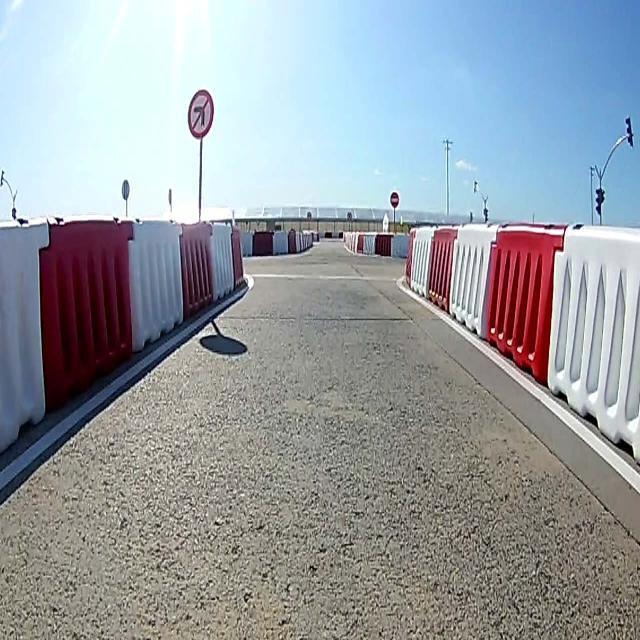girisyok: (389, 190, 398, 209)
soladonulmez: (186, 87, 216, 141)
